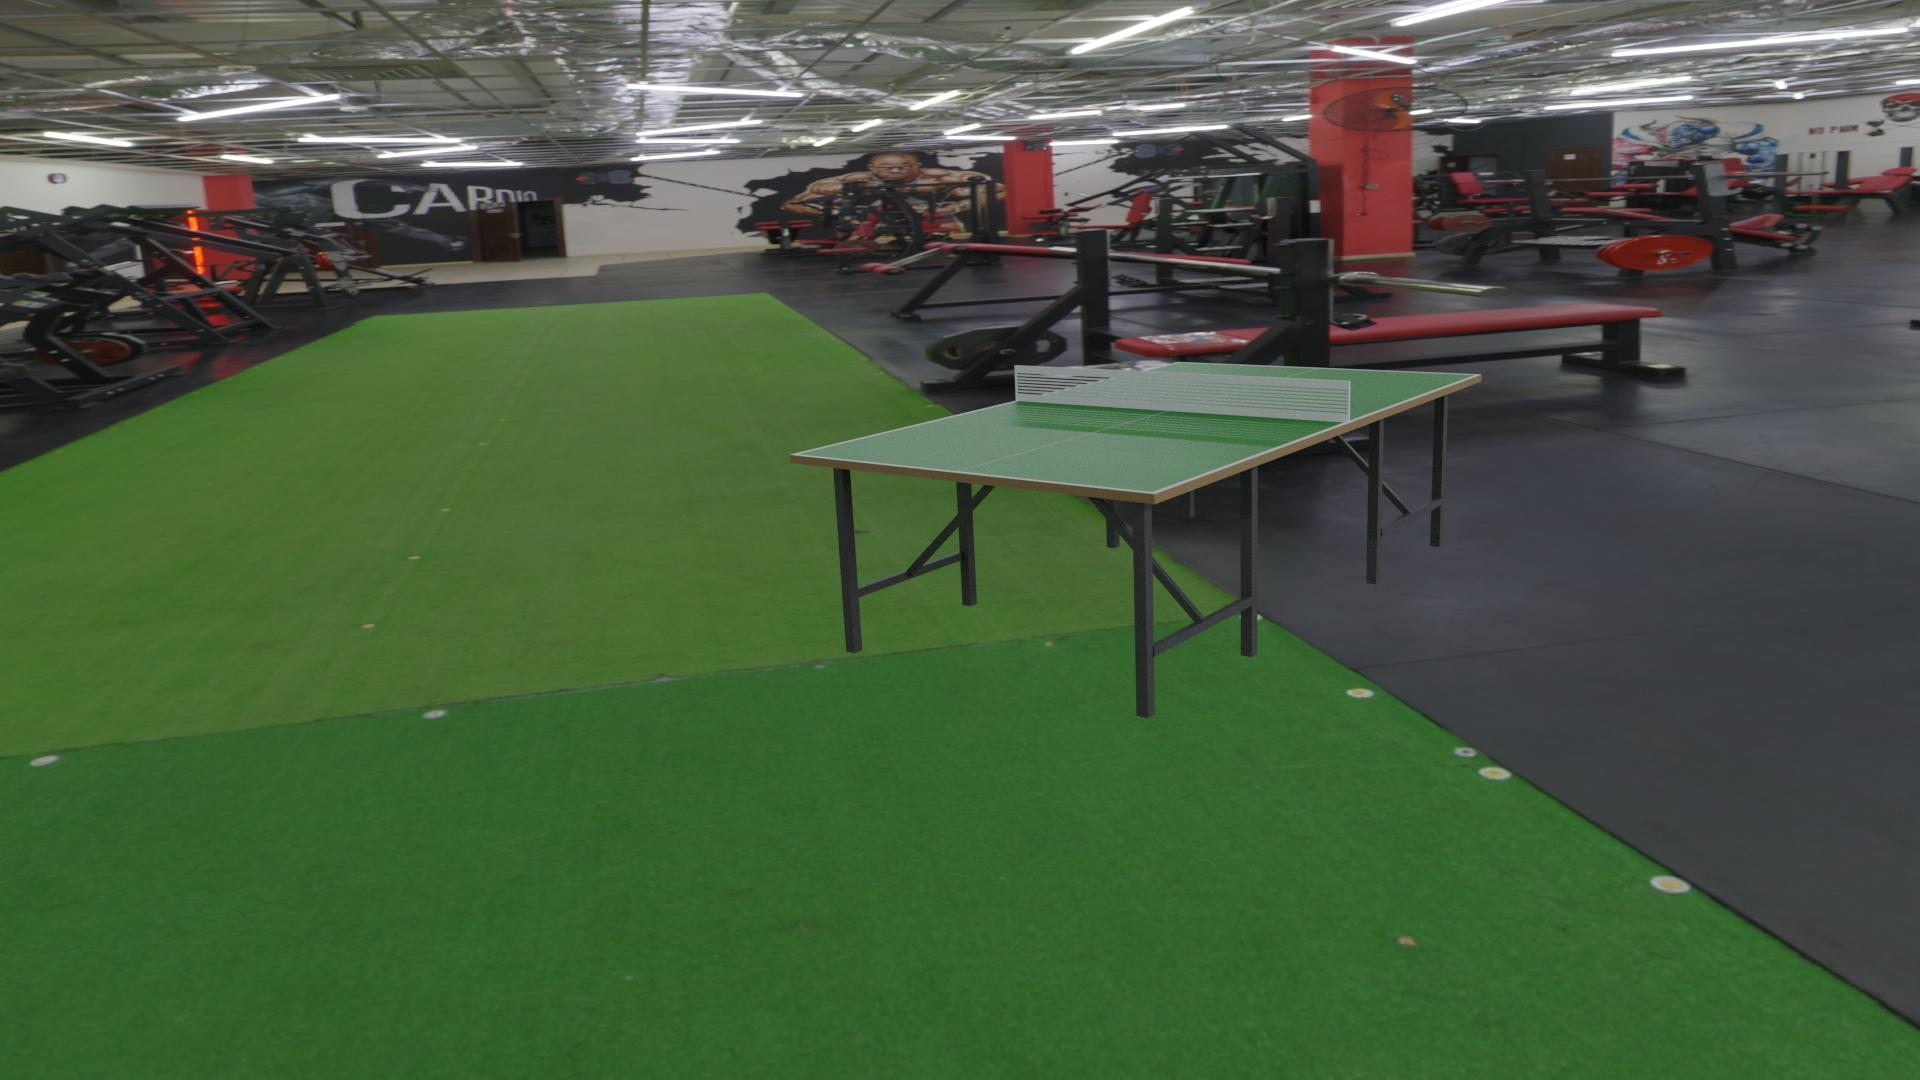table: (798, 363, 1476, 492)
